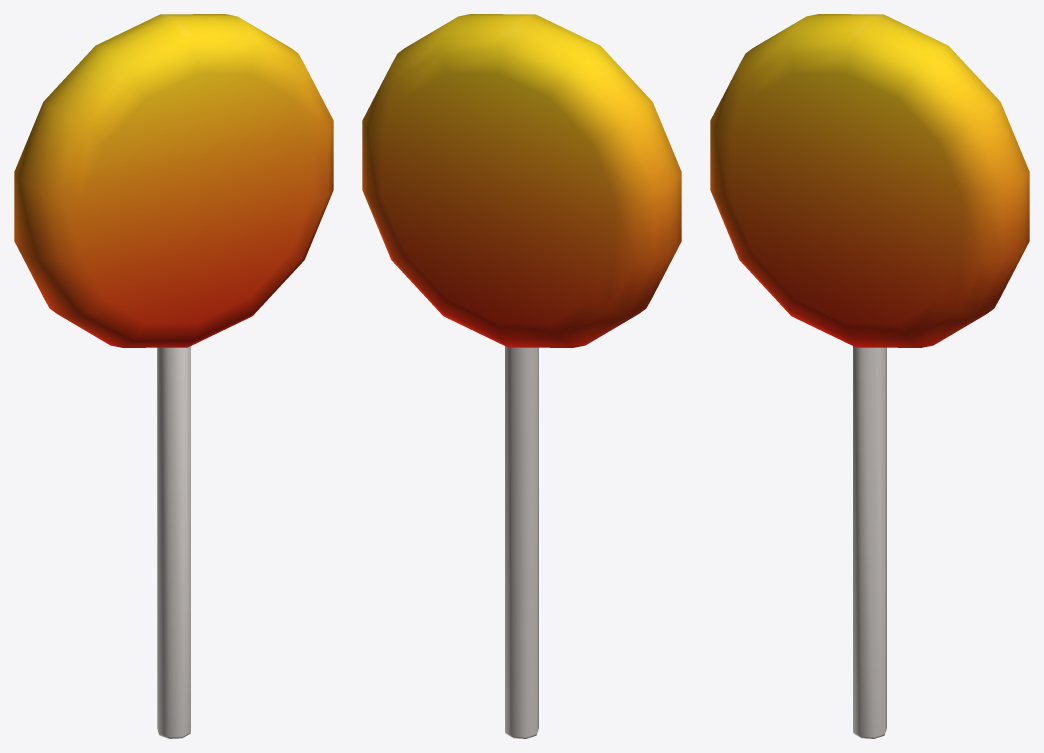
Rendered from candy_glass_9.fbx.
3 renders of one model, left to right at view 1: azimuth 30°, elevation 25°; view 2: azimuth 150°, elevation 25°; view 3: azimuth 330°, elevation 25°, orthographic.
Visible parts, largest first — view 1: c_g_9; view 2: c_g_9; view 3: c_g_9.
Boxes of the visible parts, x1,y1,x2,y2 form: c_g_9: (14,14,333,738); c_g_9: (362,14,681,738); c_g_9: (710,14,1029,738).
Size of the model in its own units: 137 by 310 by 37.39.
